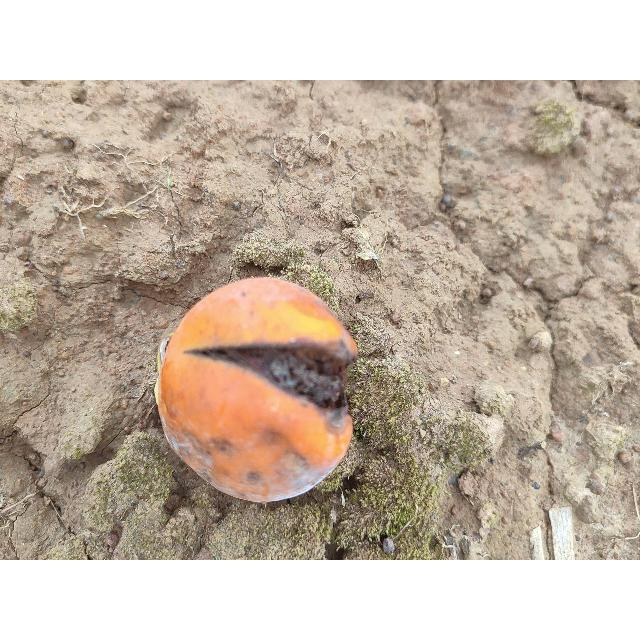damaged: (157, 277, 359, 506)
